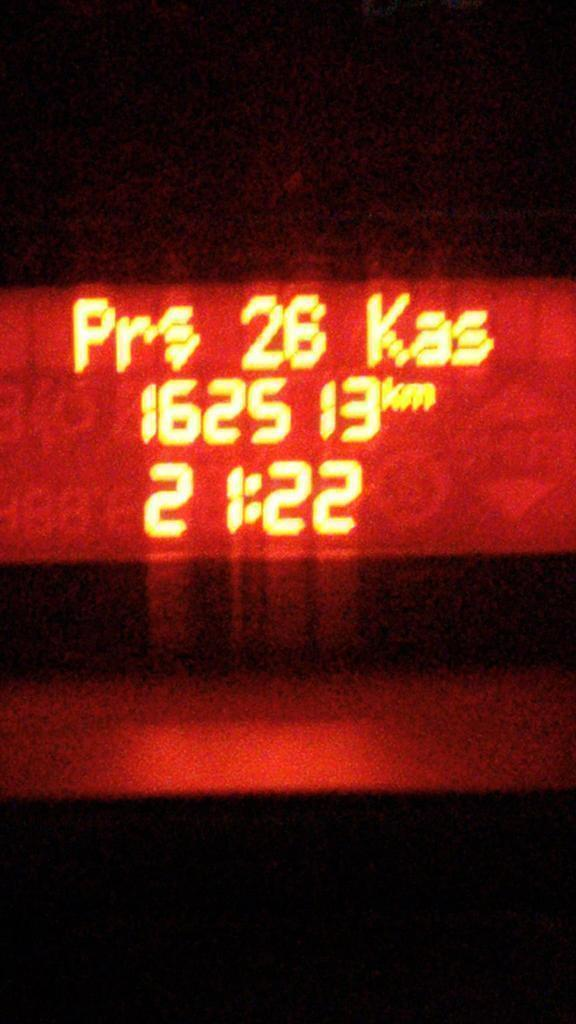1: (224, 465, 244, 533), (316, 379, 336, 442), (137, 382, 157, 444)
2: (311, 459, 364, 536), (142, 462, 194, 538), (261, 459, 312, 535), (237, 293, 284, 371), (202, 377, 246, 445)
3: (339, 375, 381, 443)
5: (246, 376, 293, 444)
6: (283, 294, 327, 369), (156, 378, 201, 446)
X: (365, 291, 411, 369), (71, 296, 116, 375), (157, 305, 200, 372), (113, 314, 157, 374), (451, 309, 495, 366), (409, 310, 451, 368), (242, 472, 261, 525), (401, 382, 435, 410), (381, 376, 404, 412)
odometer: (3, 268, 576, 566)
